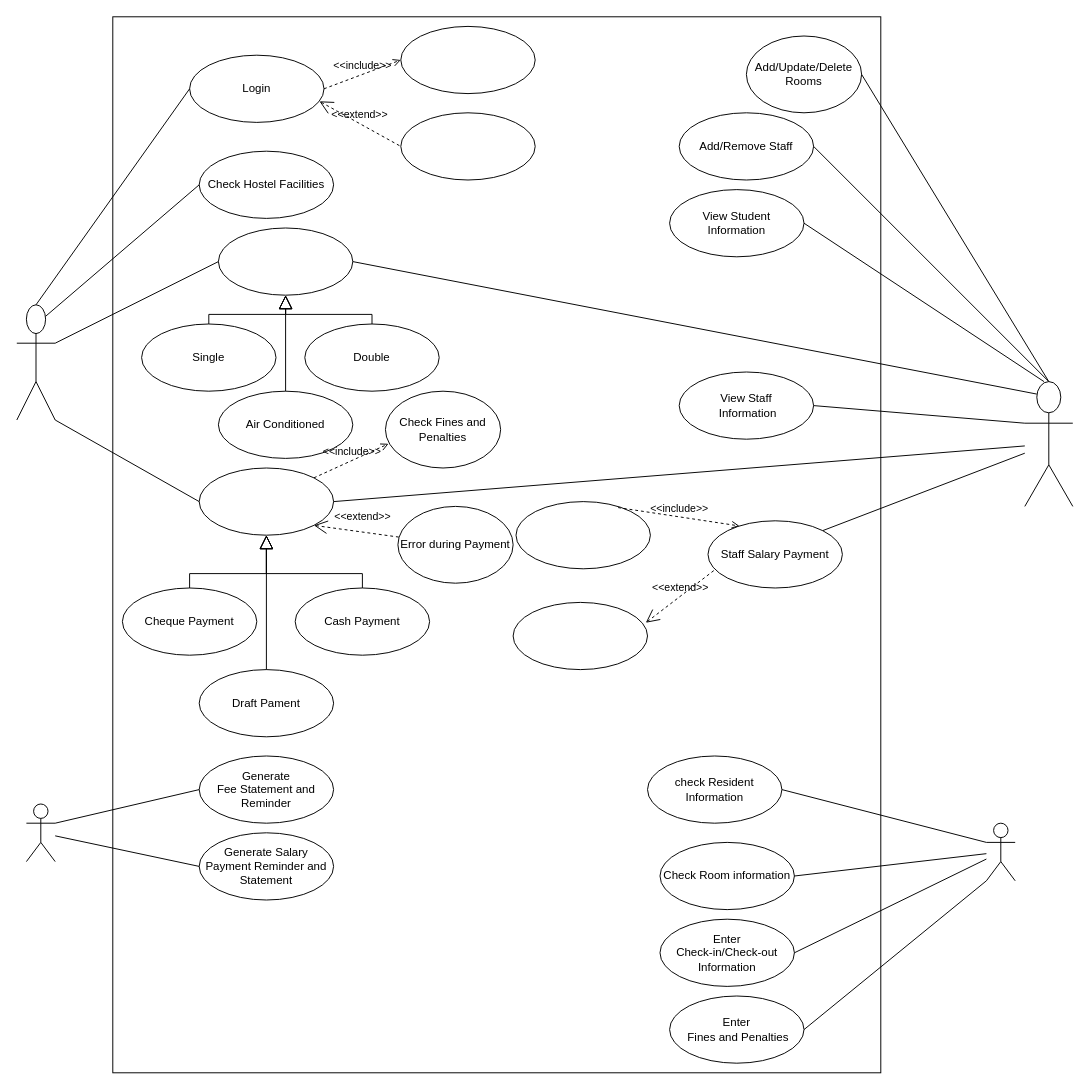
Some shapes in this 1090 by 1090 pixel diagram are drawn without their labels. Each missing label, with the centre of its shape:
"Allot Room" belongs at pixel 285 261.
"Error Login" belongs at pixel 467 146.
"Insuficient Funds" belongs at pixel 580 635.
"Pay Fees" belongs at pixel 266 501.
"Staff" belongs at pixel 1000 851.
"Student" belongs at pixel 35 362.
"System" belongs at pixel 40 832.
"Verify Credentials" belongs at pixel 467 59.
"Verify Hostel Funds" belongs at pixel 582 535.
"Warden" belongs at pixel 1048 443.
